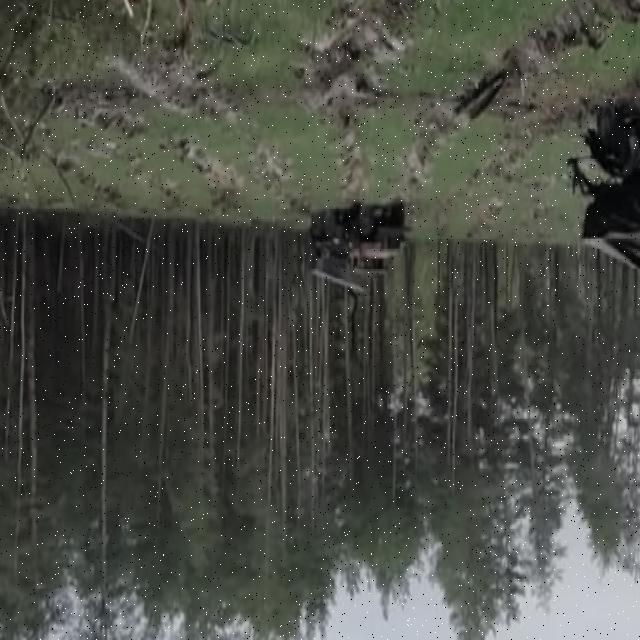MLRS: (306, 200, 408, 296)
